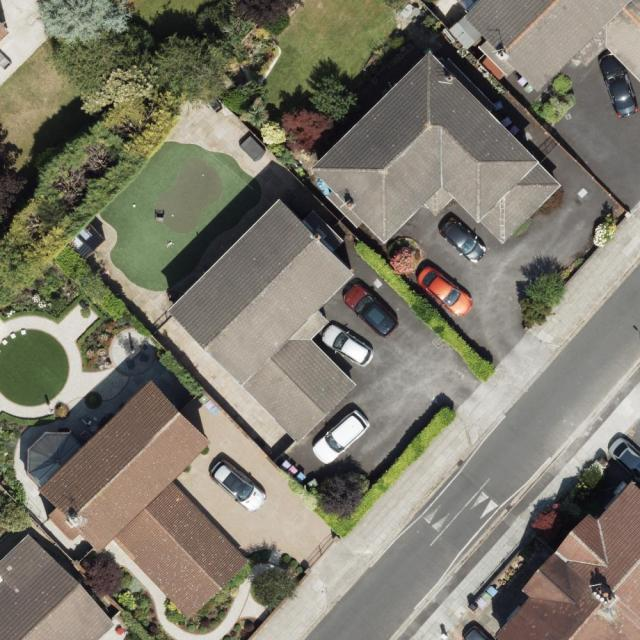roof: (23, 380, 252, 621), (308, 50, 562, 247), (168, 198, 357, 445), (496, 479, 640, 640), (462, 0, 640, 94), (0, 531, 115, 640)
